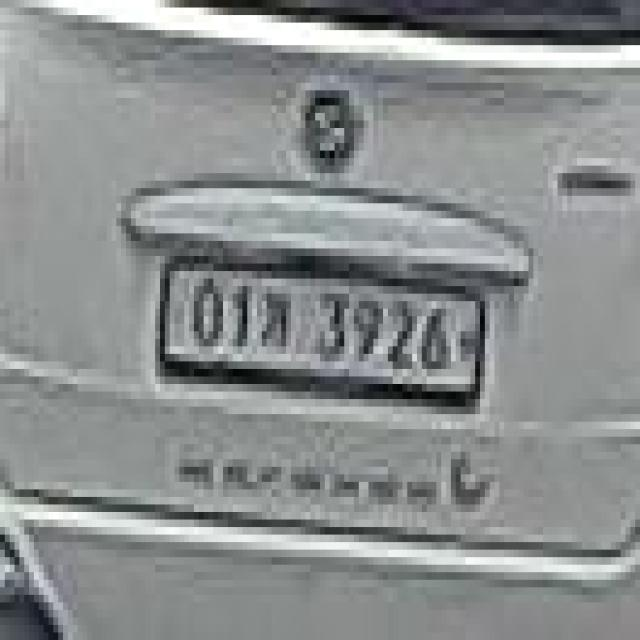illegal_plate: (156, 245, 490, 418)
